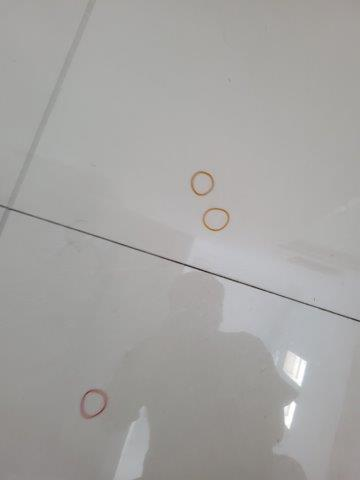karet: (80, 391, 110, 420), (202, 207, 229, 233), (191, 171, 215, 196)
